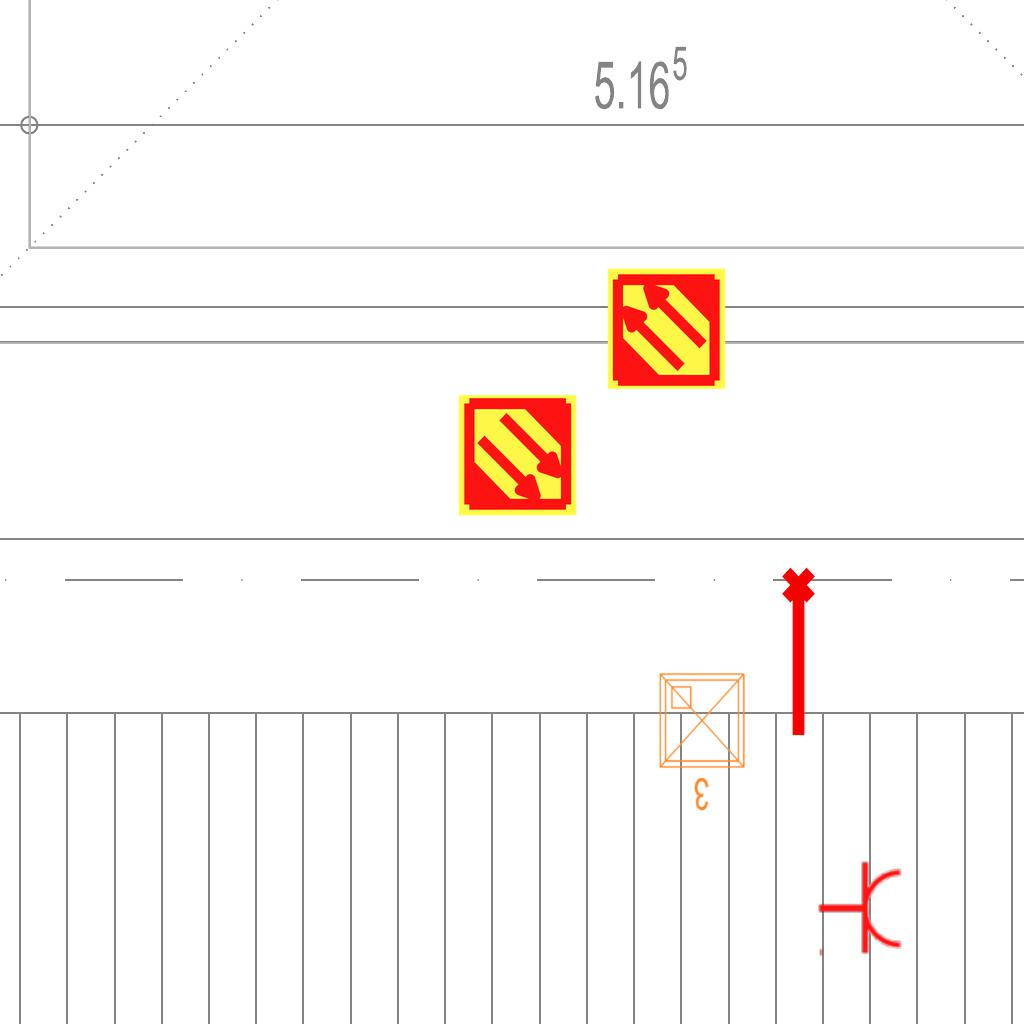ASR_Ansaugoeffnung: (778, 565, 824, 741)
ASR_Ansaugrauchmelder: (604, 266, 729, 391), (455, 393, 580, 518)
Einbaudownlights_LED_Konferenzraeume: (652, 666, 756, 816)
Schukosteckdose_einfach: (817, 860, 904, 960)
